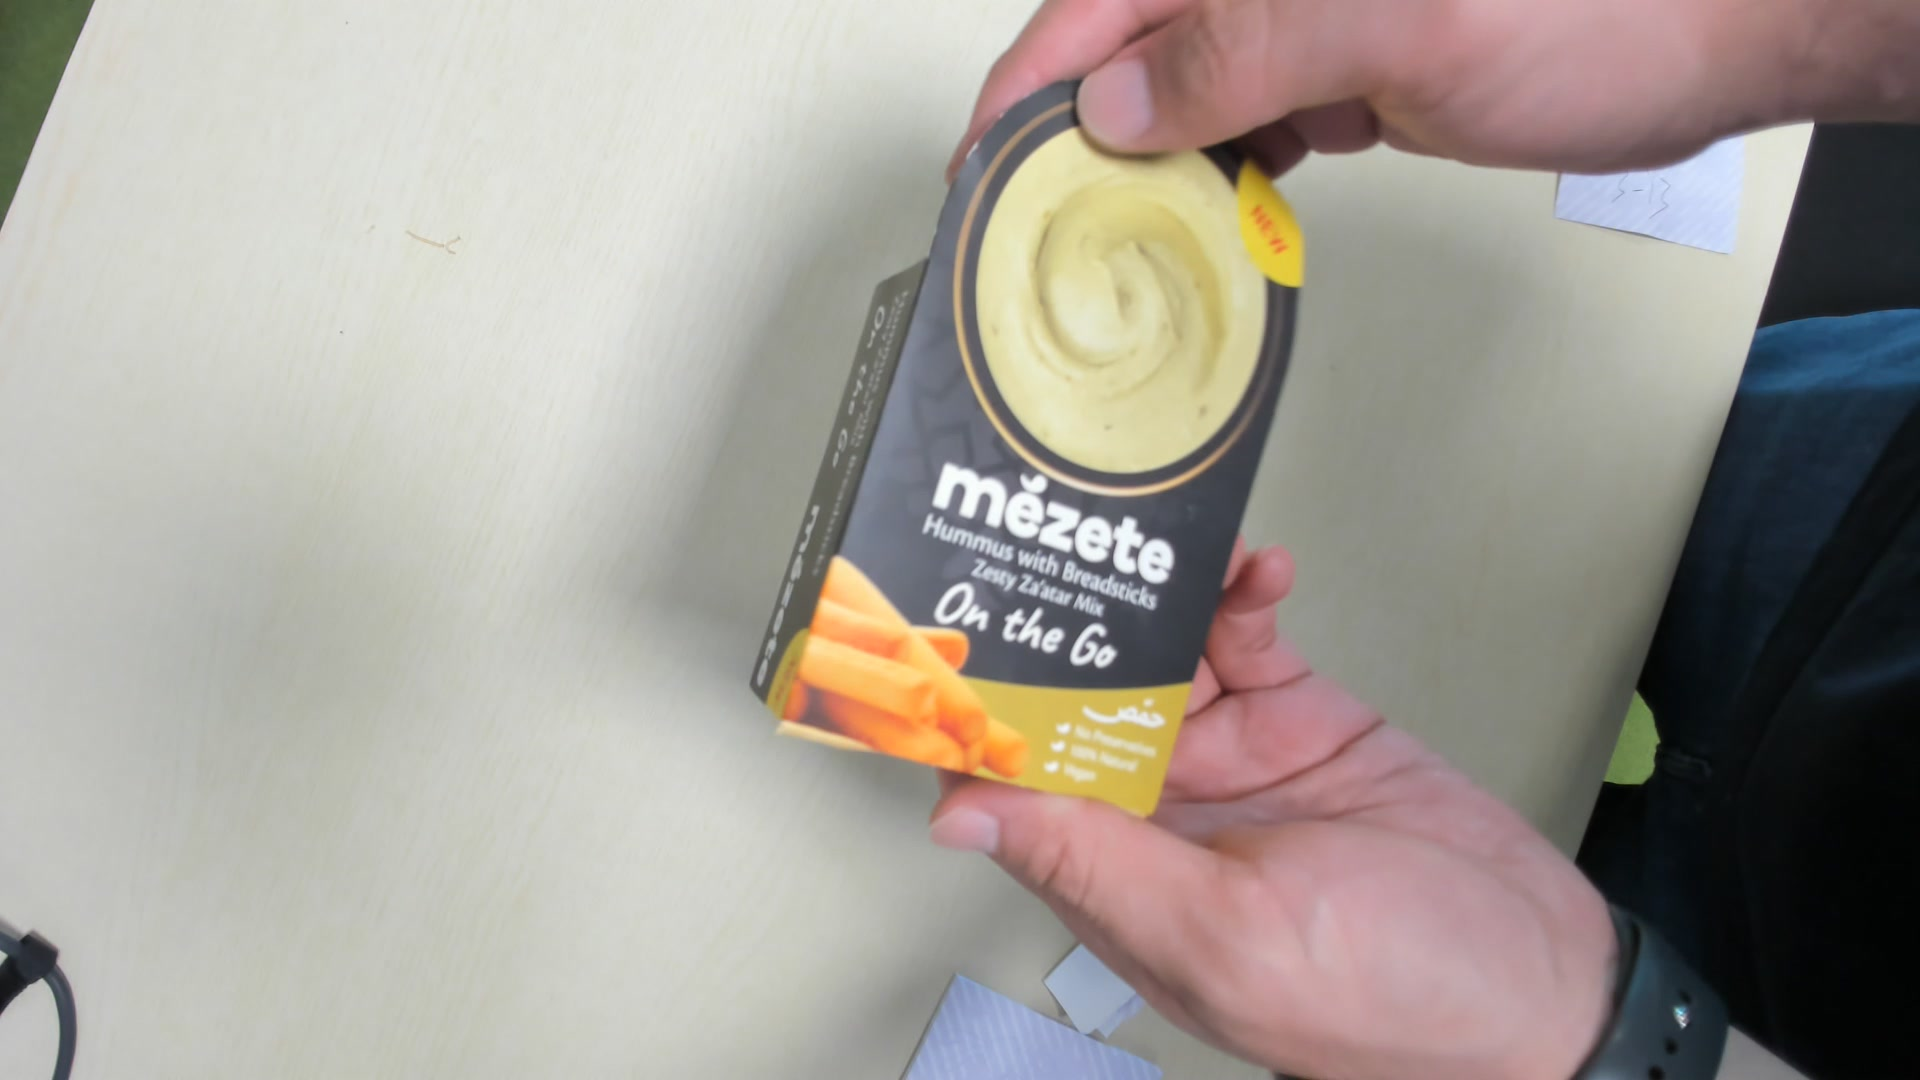InstantMeals_0-99g_NonHalal_NonHealthy: (741, 74, 1302, 823)
